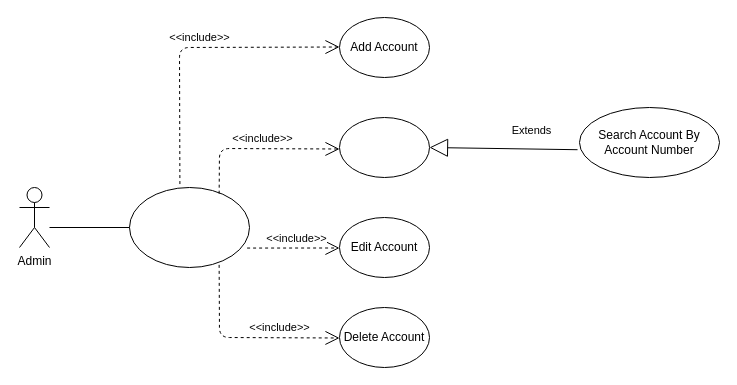
Some shapes in this 737 by 385 pixel diagram are drawn without their labels. Here are the shapes that lost their labels. From the top down, the centre of each, then its label:
At pixel 384 147: "View Account".
At pixel 189 227: "Manage Account".
